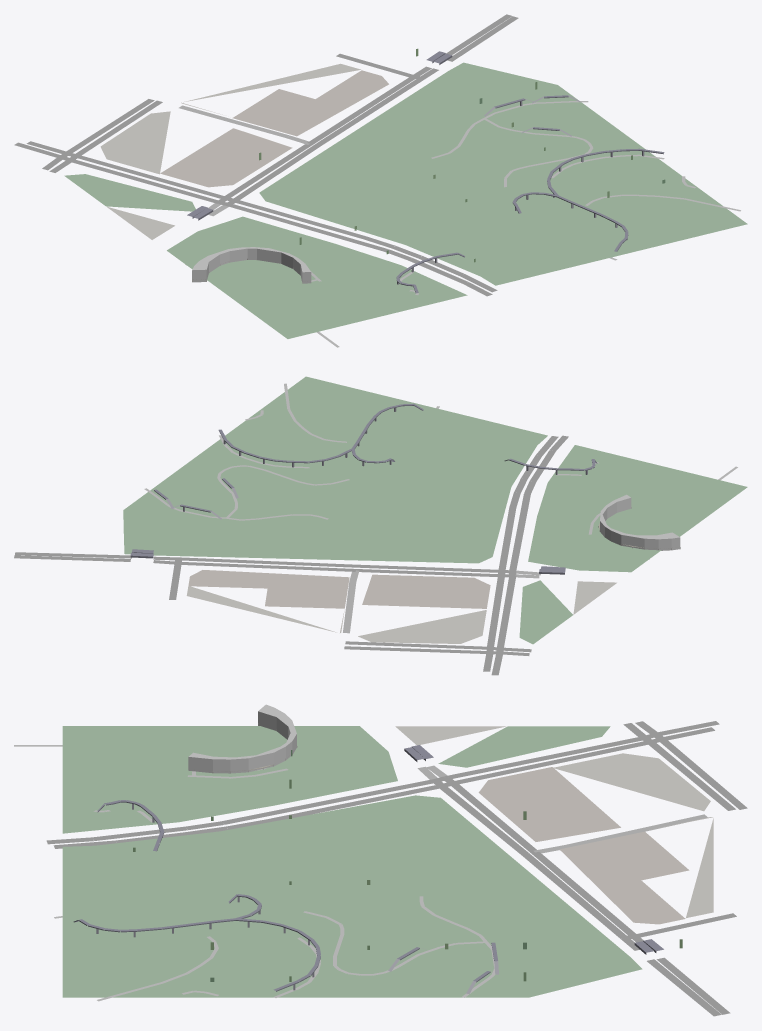
3 renders of one model, top to bottom at view 1: azimuth 30°, elevation 25°; view 2: azimuth 150°, elevation 25°; view 3: azimuth 270°, elevation 25°, orthographic. The views are drawn at different scales.
Size of the model in its own units: 554 by 14.09 by 564.
